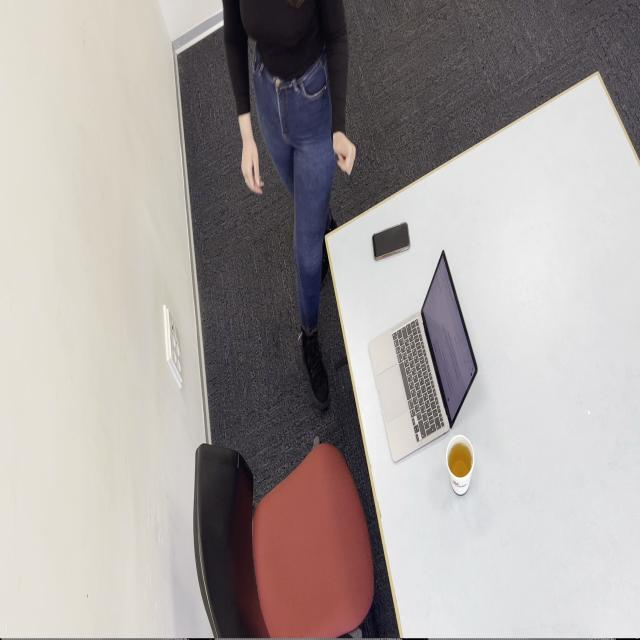bag: (372, 221, 410, 260)
ipad: (222, 0, 355, 411)
laptop: (367, 249, 478, 463)
